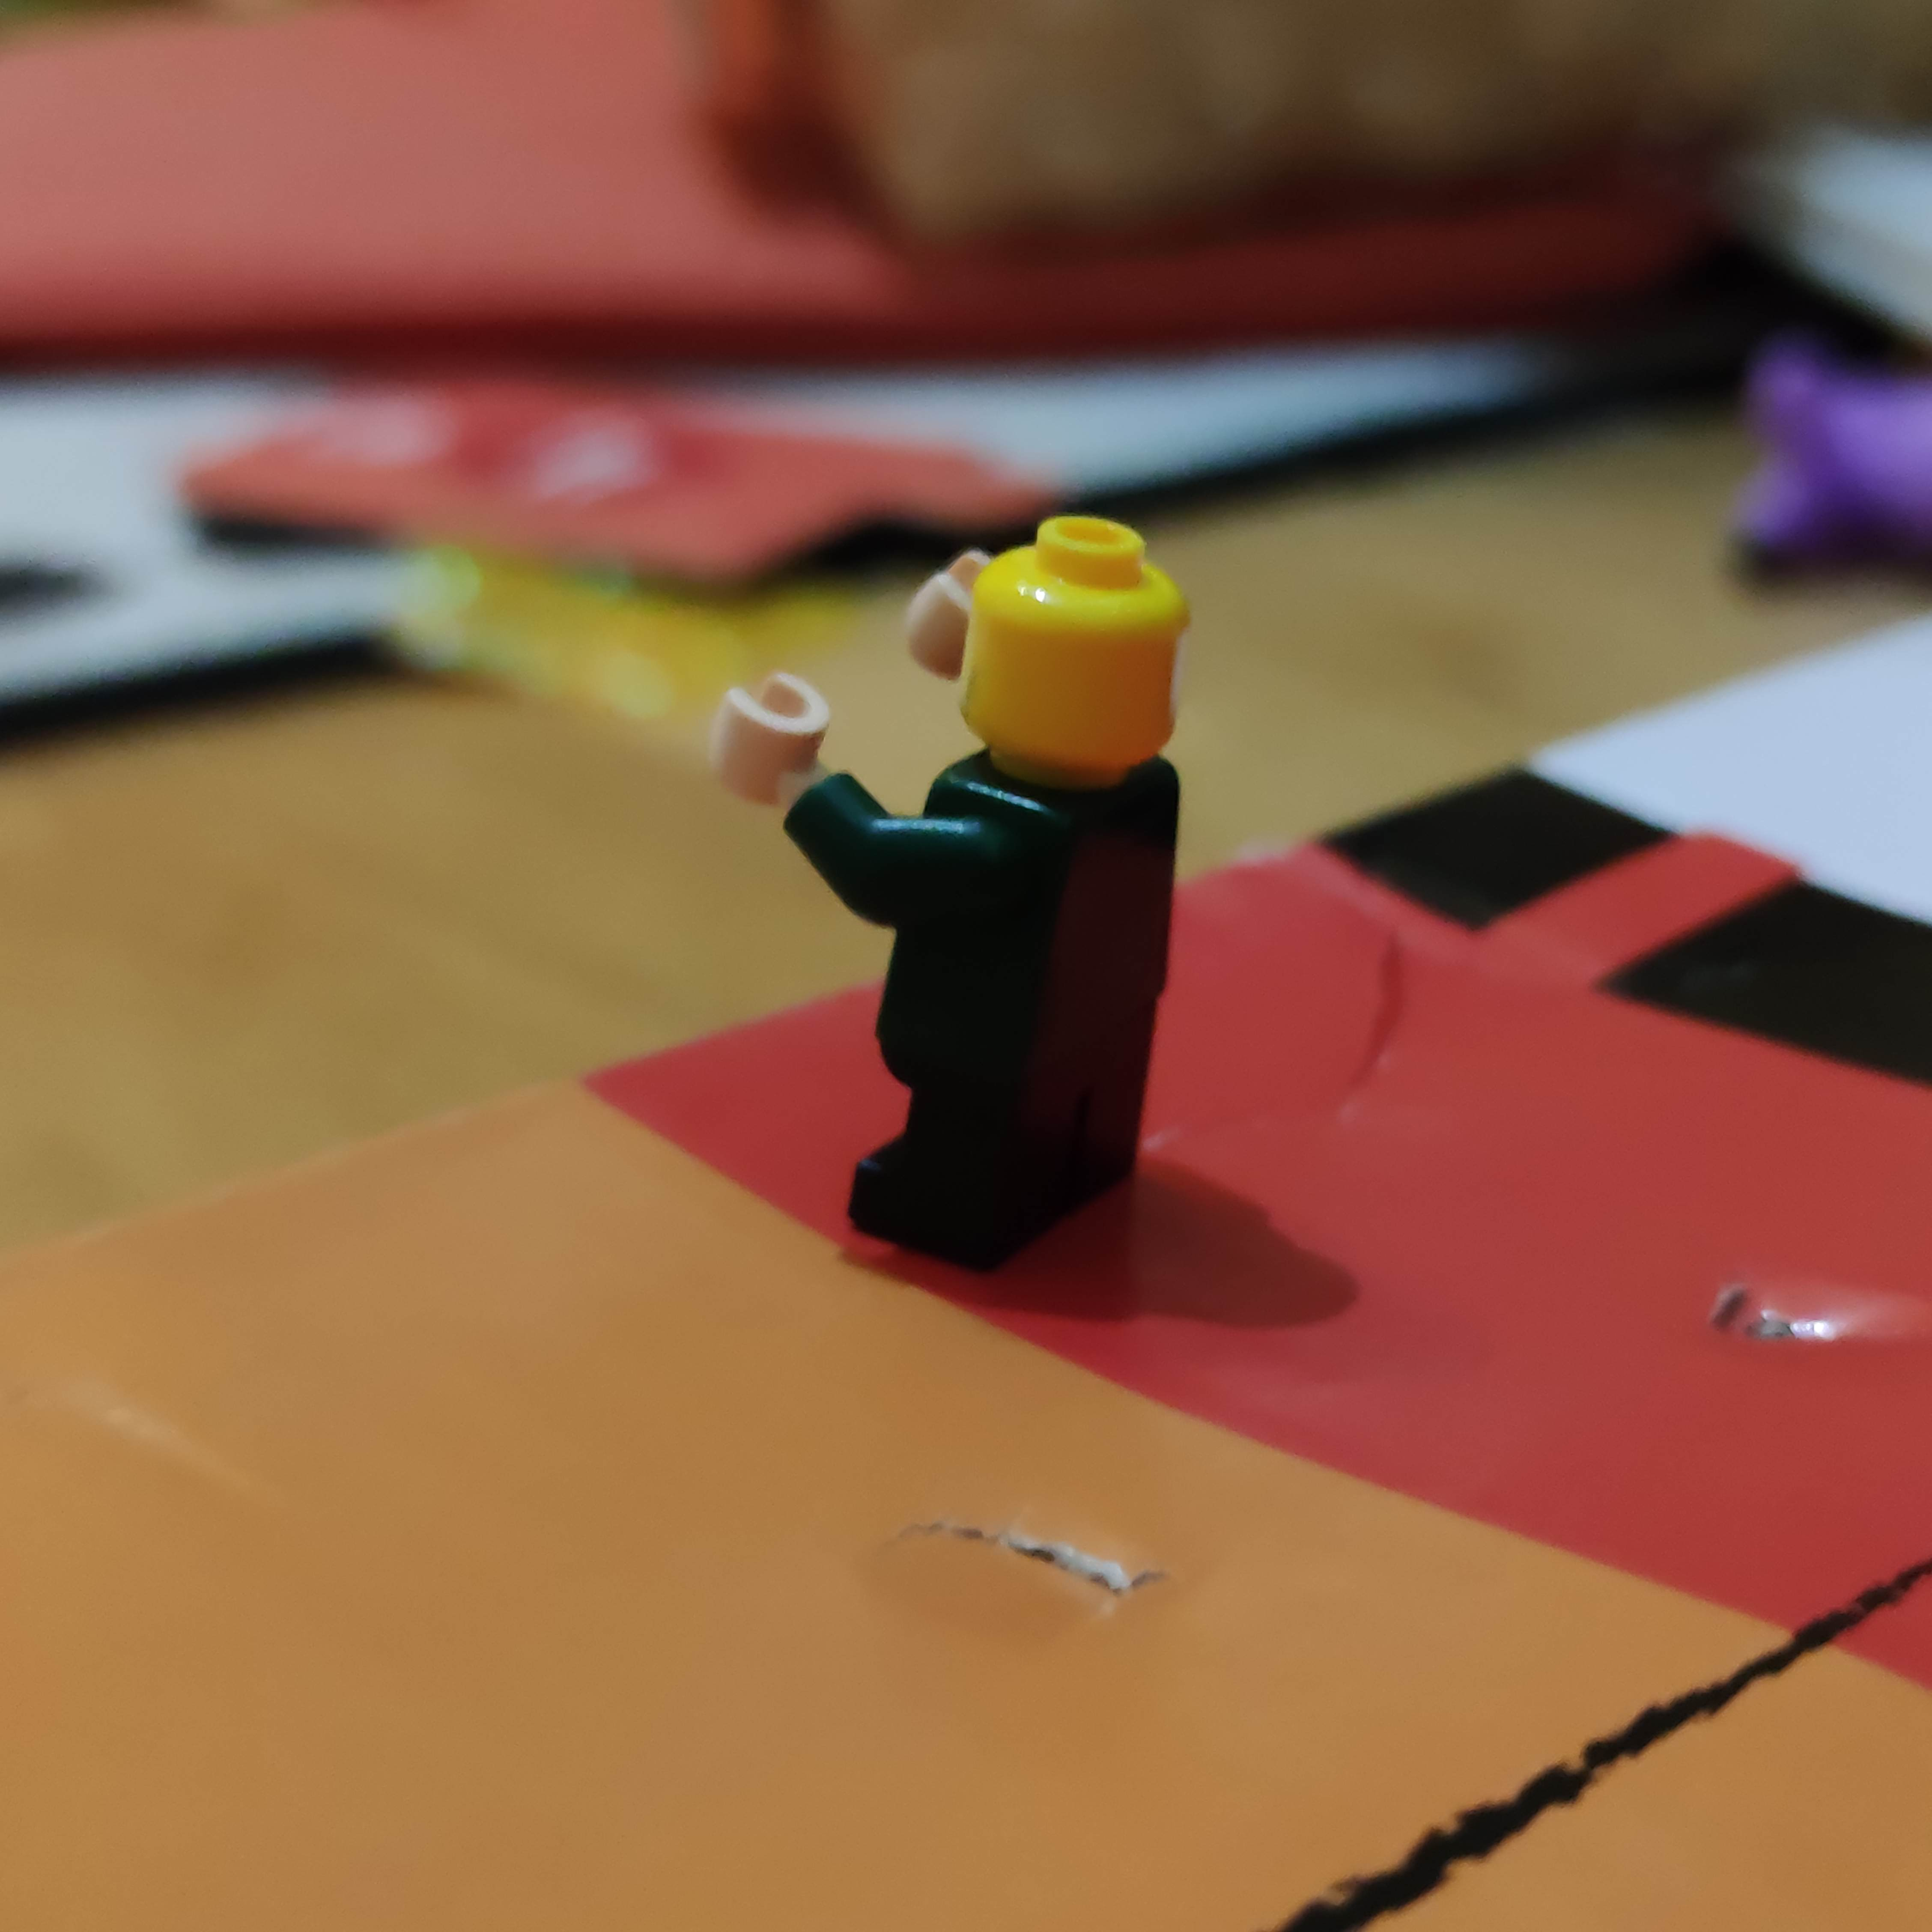lego: (706, 497, 1200, 1276)
